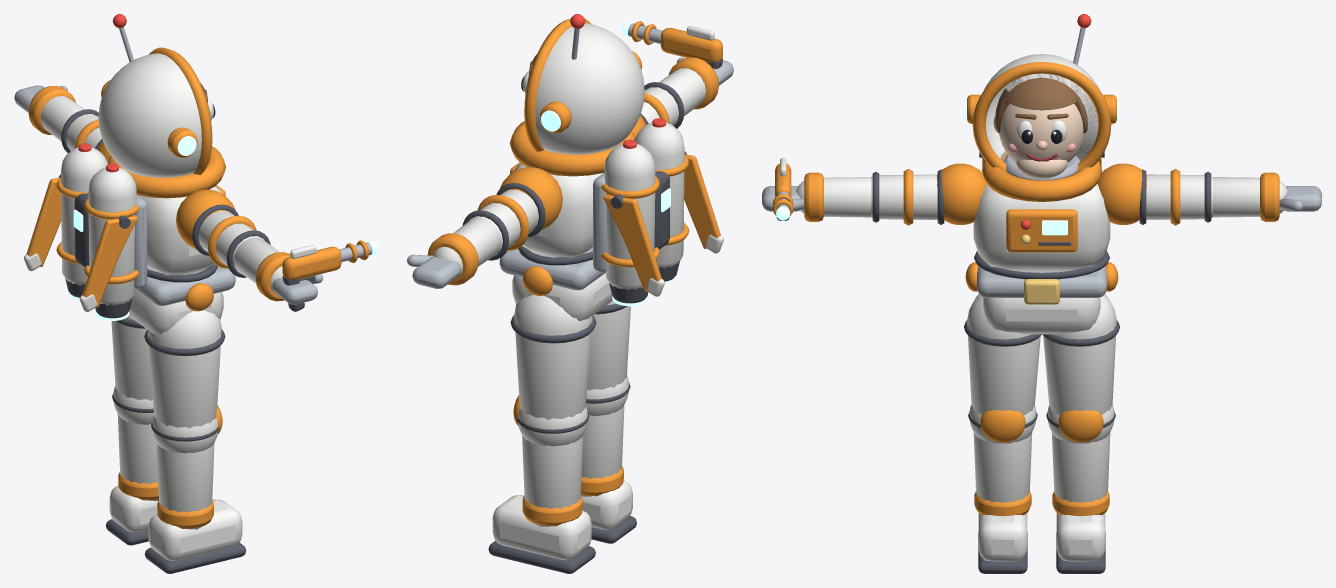
File: Astronot.fbx
3 views of the same model, side by side, from view 1: azimuth 30°, elevation 25°; view 2: azimuth 150°, elevation 25°; view 3: azimuth 270°, elevation 25° (orthographic). The views are drawn at different scales.
Parts seen in each view (by area): view 1: Astronot, Astronot_Jetpack, Astronot_Lazer, Astronot_Kanat_R, Astronot_Kanat_L; view 2: Astronot, Astronot_Jetpack, Astronot_Kanat_L, Astronot_Lazer, Astronot_Kanat_R; view 3: Astronot, Astronot_Lazer.
Boxes of the visible parts, left/top/right/bottom form: Astronot: left=14, top=14, right=323, bottom=573; Astronot_Jetpack: left=56, top=143, right=147, bottom=320; Astronot_Lazer: left=282, top=240, right=378, bottom=311; Astronot_Kanat_R: left=79, top=215, right=137, bottom=311; Astronot_Kanat_L: left=23, top=174, right=61, bottom=271; Astronot: left=407, top=14, right=733, bottom=573; Astronot_Jetpack: left=593, top=118, right=689, bottom=306; Astronot_Kanat_L: left=603, top=194, right=664, bottom=296; Astronot_Lazer: left=621, top=21, right=722, bottom=68; Astronot_Kanat_R: left=684, top=151, right=723, bottom=253; Astronot: left=762, top=14, right=1321, bottom=573; Astronot_Lazer: left=772, top=157, right=793, bottom=220.
Size of what is drawn, in the model's own units: 54.3 by 138 by 134.
